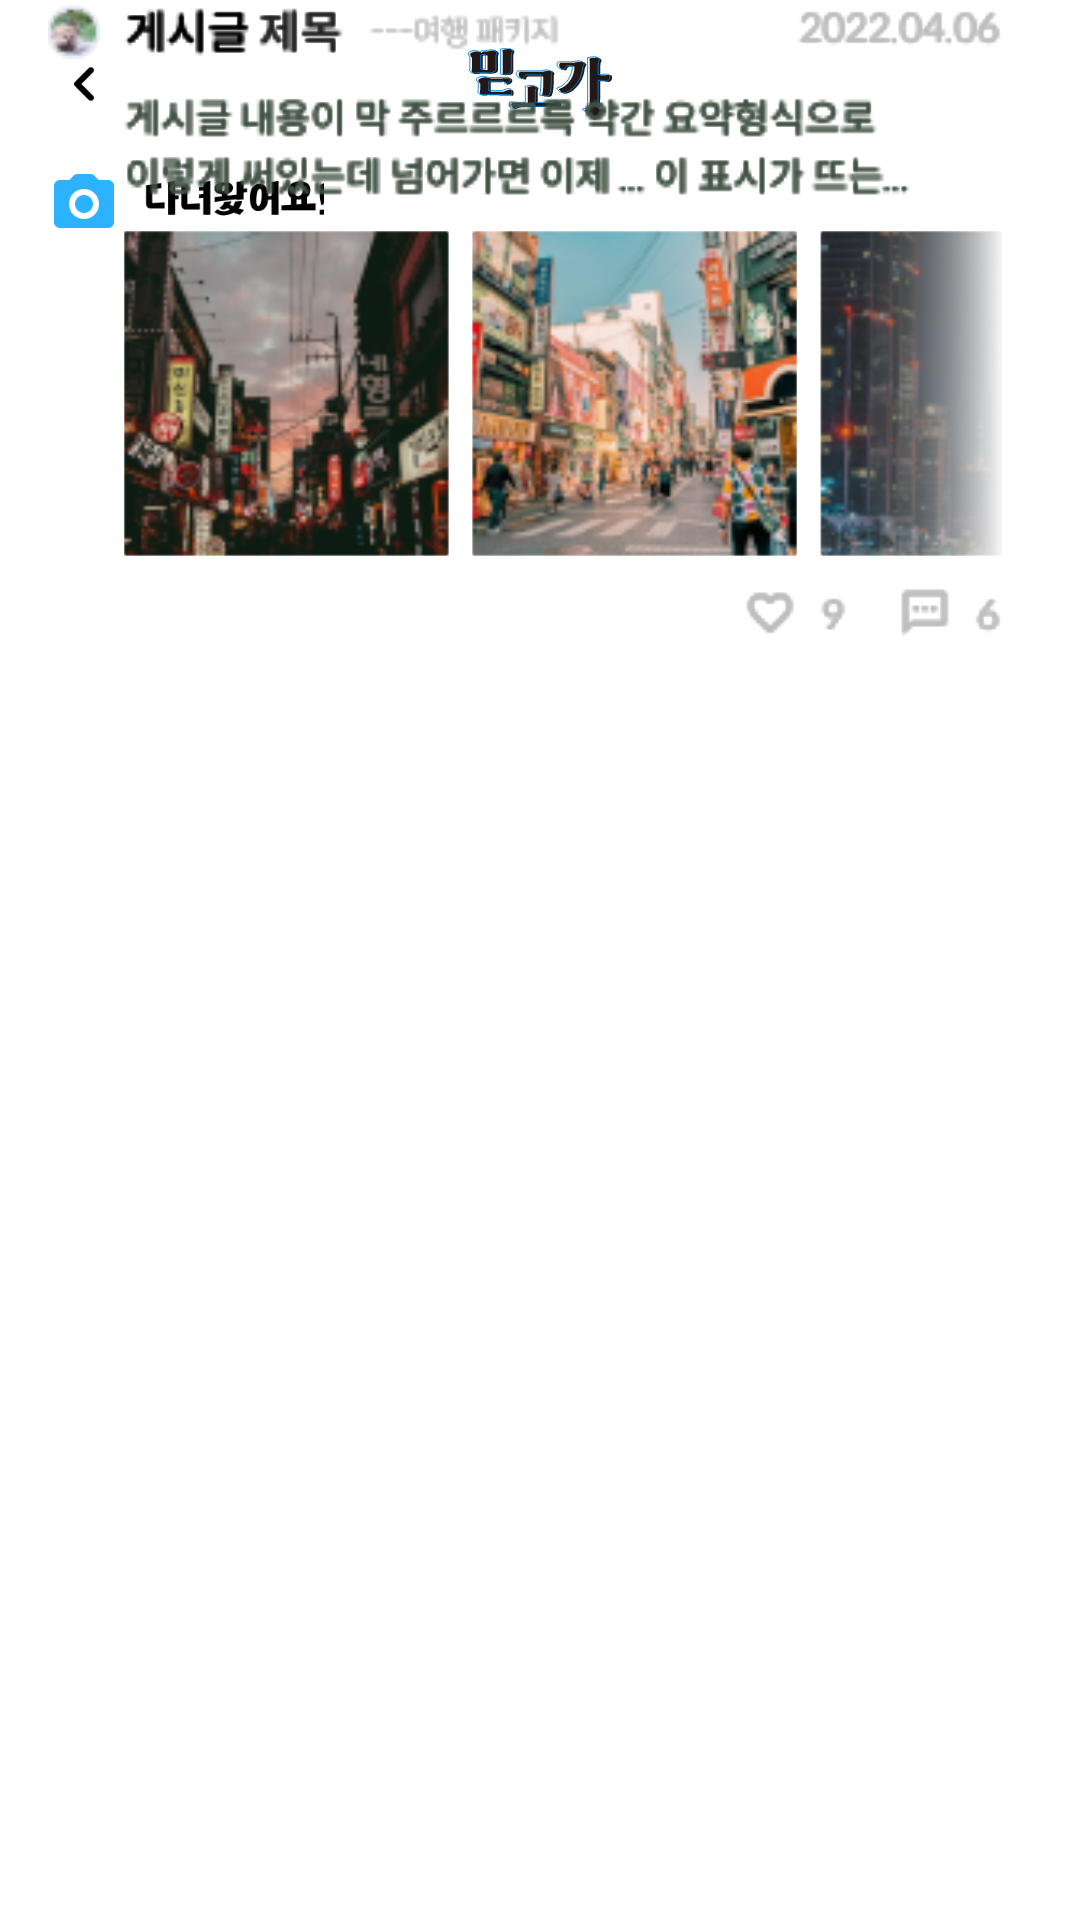

Icons on this 1080×1920 Android screen, each with the point to tap as point (x, y):
back: point (84, 84)
camera: point (84, 201)
